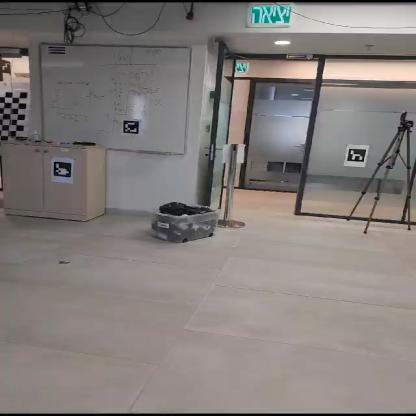open: (220, 71, 323, 220)
